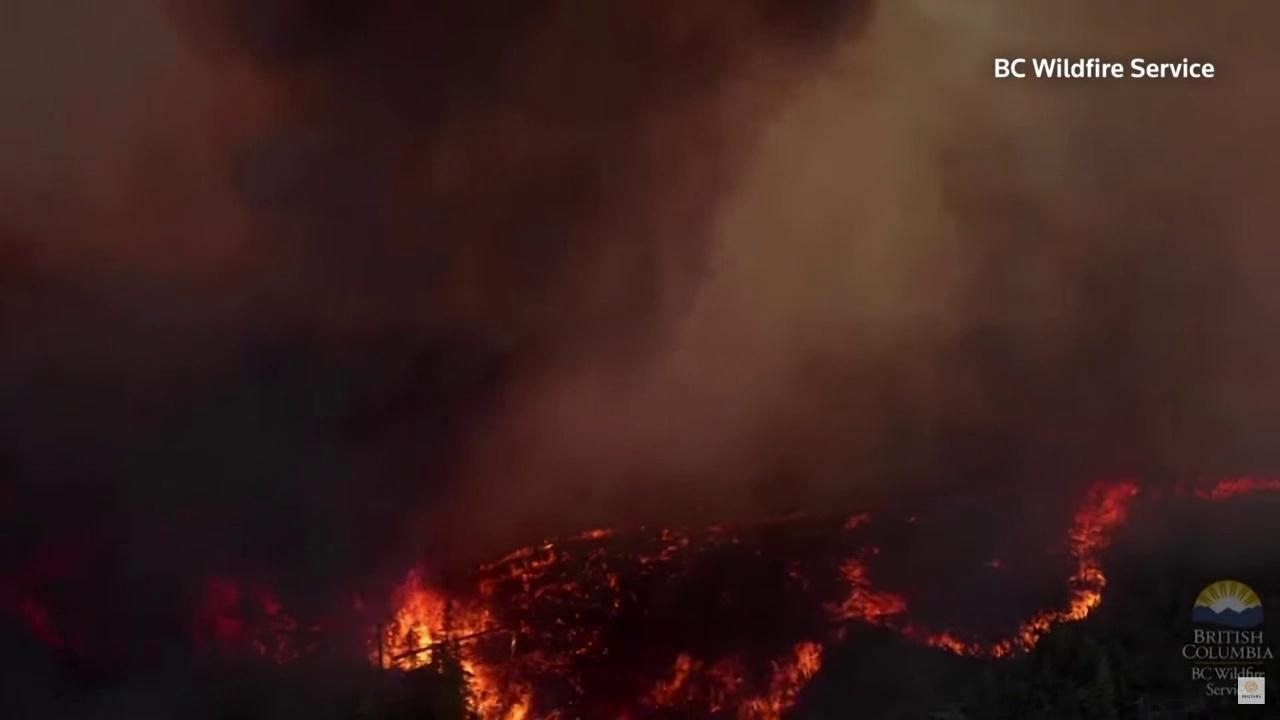fire: (351, 471, 1280, 718), (189, 578, 324, 675)
smoke: (0, 0, 1280, 720)
